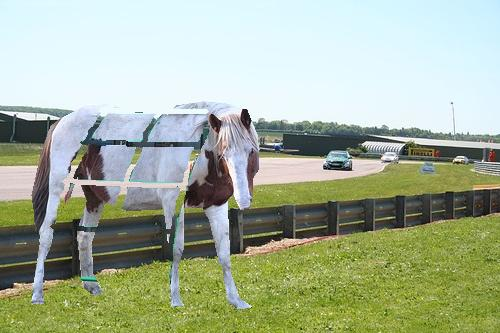tampered: (32, 102, 259, 309)
